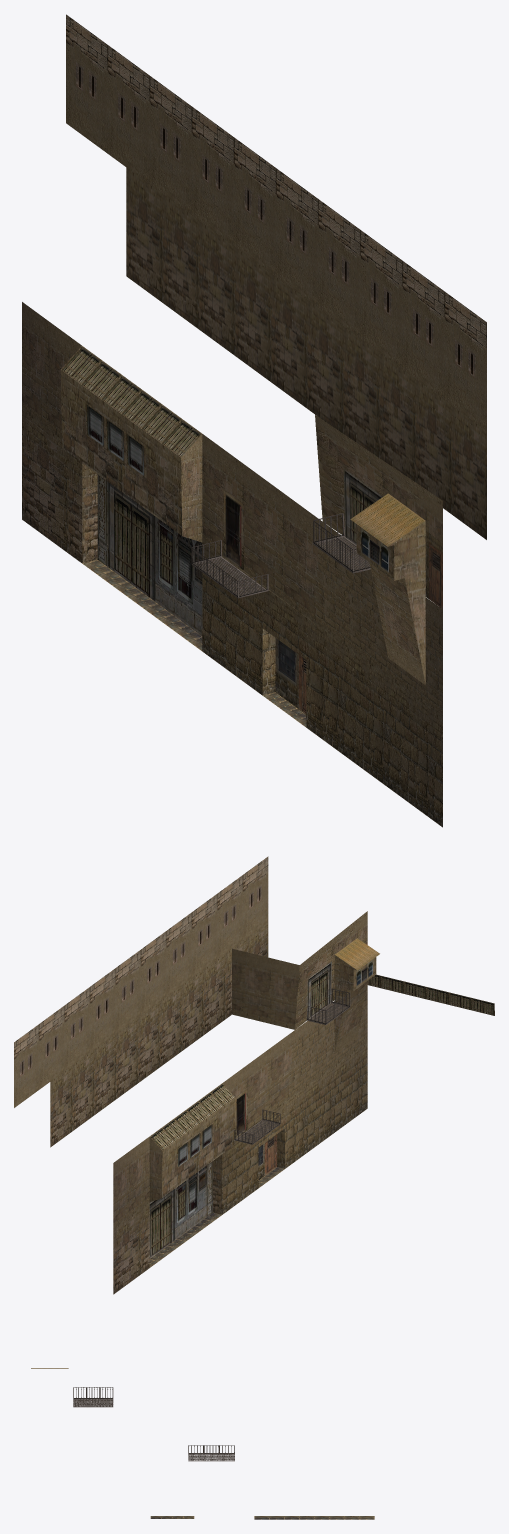
File: M7Z1_CityWall4A3.glb
3 views of the same model, one above another, from view 1: azimuth 30°, elevation 25°; view 2: azimuth 150°, elevation 25°; view 3: azimuth 270°, elevation 25° (orthographic). The views are drawn at different scales.
Parts seen in each view (by area): view 1: M7Z1_CITYWALL4A3; view 2: M7Z1_CITYWALL4A3; view 3: M7Z1_CITYWALL4A3.
Boxes of the visible parts, left/top/right/bottom form: M7Z1_CITYWALL4A3: left=22, top=14, right=486, bottom=827; M7Z1_CITYWALL4A3: left=14, top=856, right=494, bottom=1294; M7Z1_CITYWALL4A3: left=31, top=1368, right=374, bottom=1519.
Bounding box in the file's own units: 12.62 × 16 × 32.
16 materials, 16 textured.
